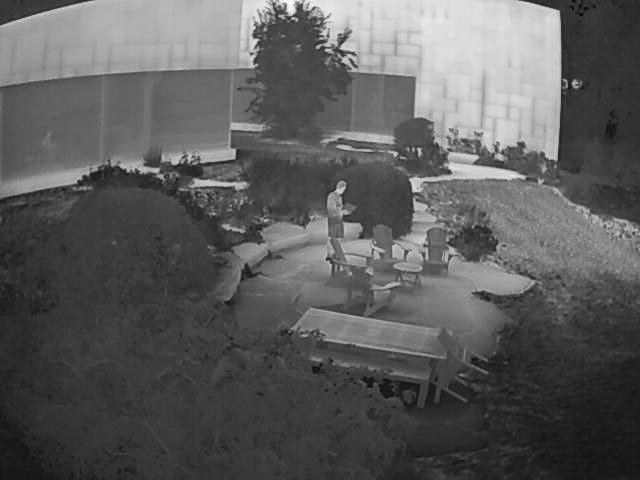person: (326, 180, 349, 270)
